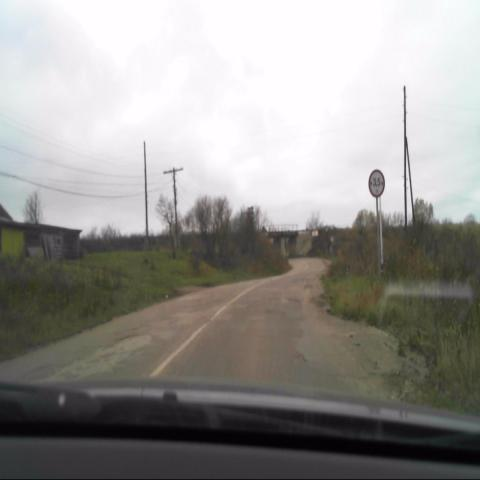3_14: (368, 168, 385, 198)
